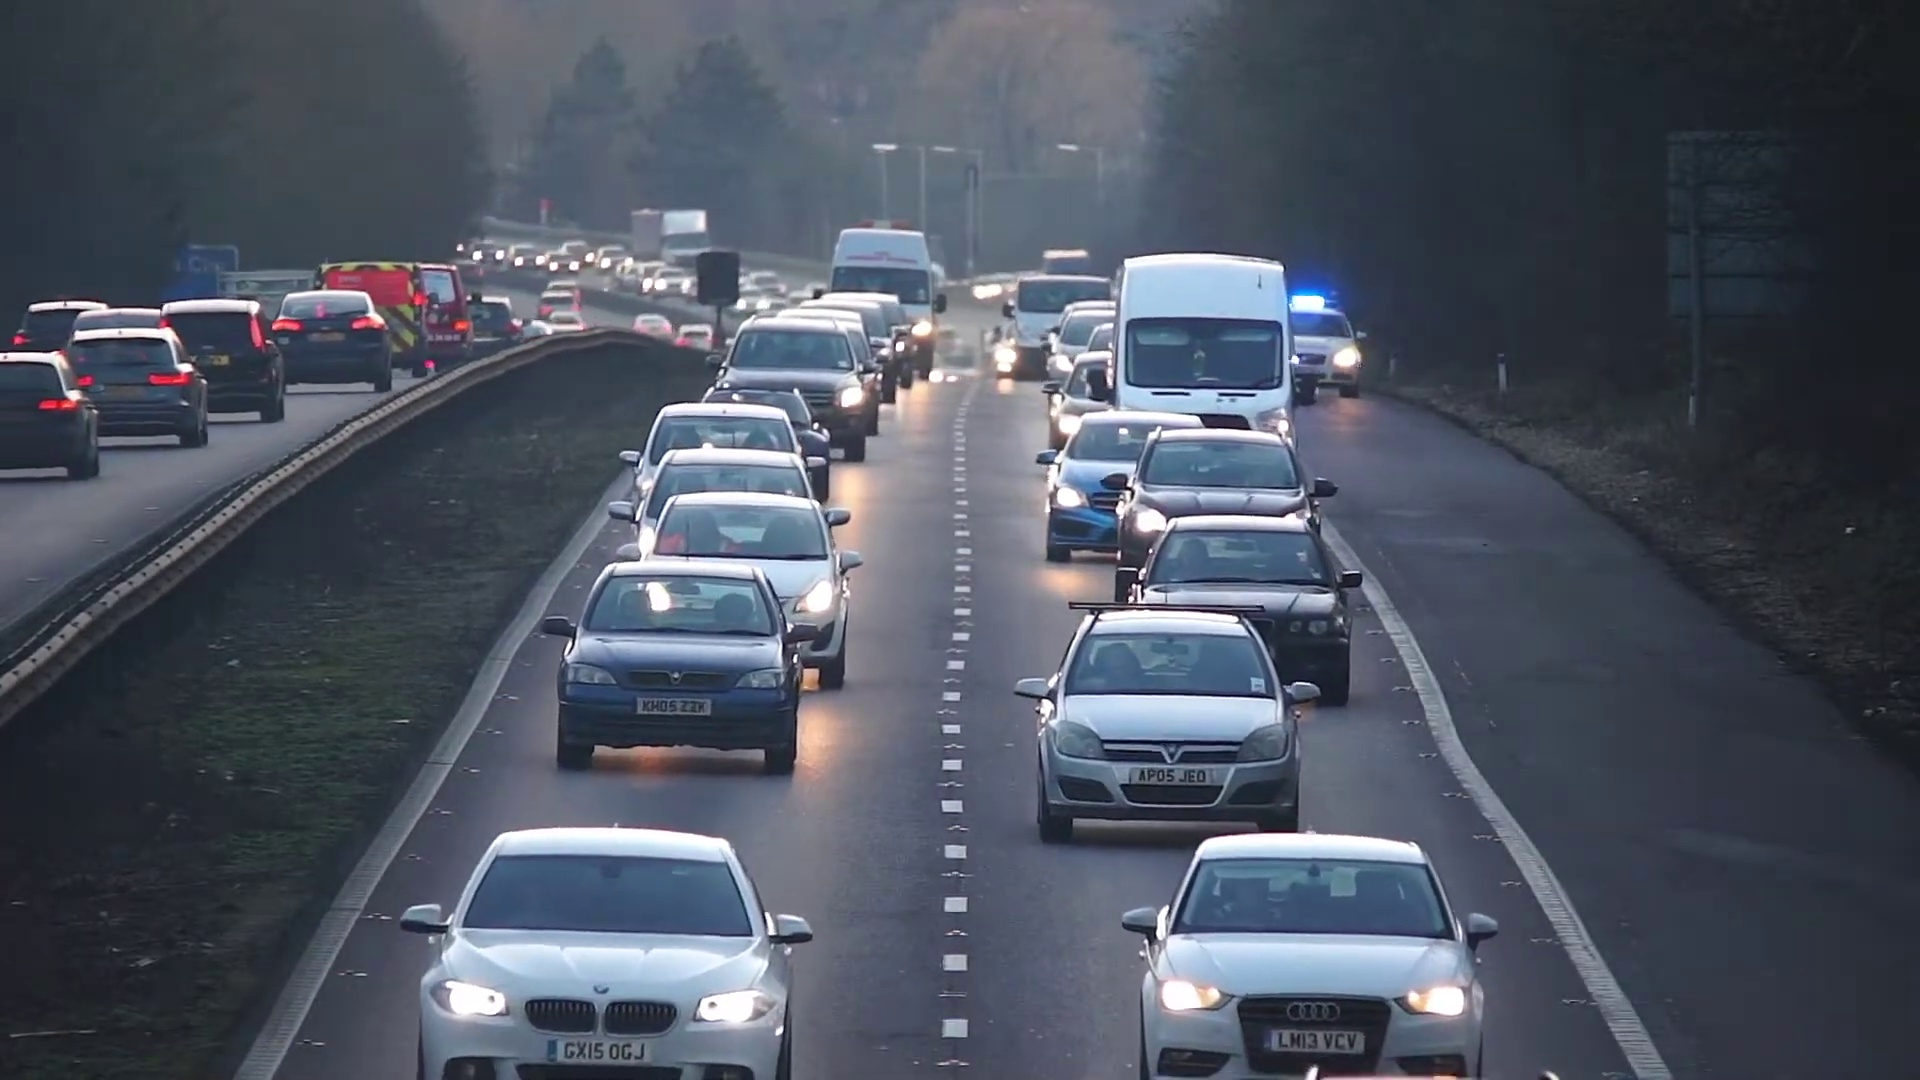license_plate: (1261, 1026, 1368, 1059), (551, 1039, 650, 1065), (1126, 766, 1217, 786), (634, 697, 712, 718)
